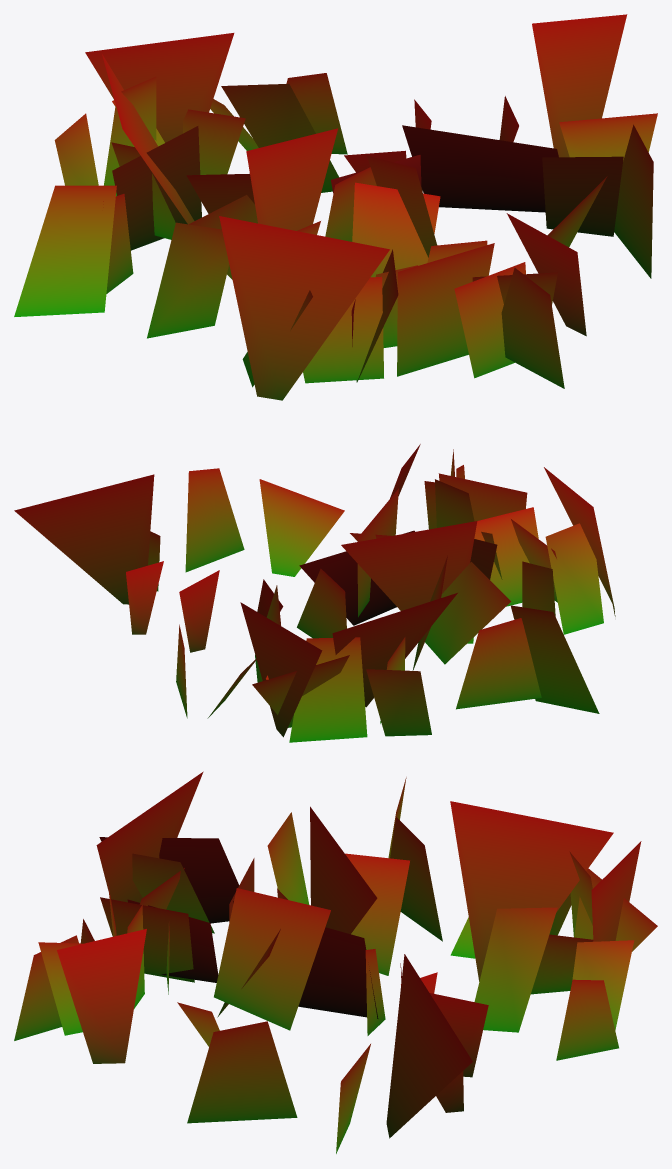
File: Var2_LOD2.fbx
3 views of the same model, one above another, from view 1: azimuth 30°, elevation 25°; view 2: azimuth 150°, elevation 25°; view 3: azimuth 270°, elevation 25° (orthographic). The views are drawn at different scales.
Visible parts, largest first — view 1: _e311_Var2_LOD2; view 2: _e311_Var2_LOD2; view 3: _e311_Var2_LOD2.
Boxes of the visible parts, x1=… form: _e311_Var2_LOD2: x1=14, y1=14, x2=657, y2=400; _e311_Var2_LOD2: x1=14, y1=444, x2=615, y2=742; _e311_Var2_LOD2: x1=14, y1=771, x2=657, y2=1153.
Size of the model in its own units: 90.07 by 25.45 by 80.02.
